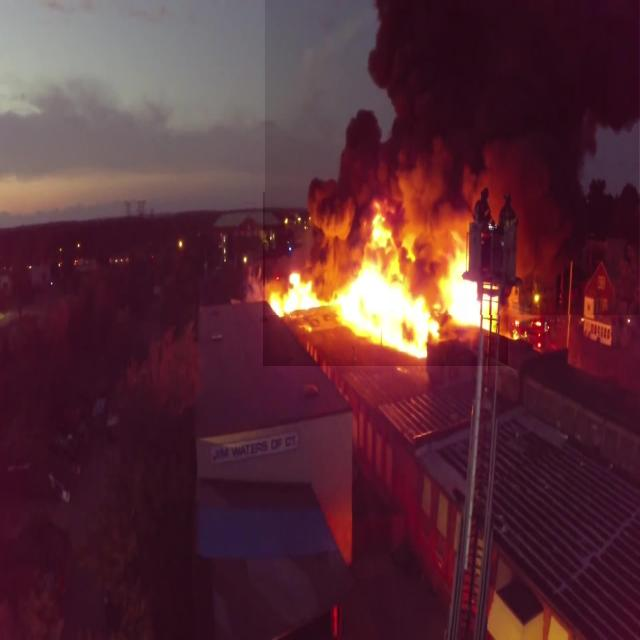Fire: (263, 192, 508, 366)
Smoke: (266, 0, 640, 315)
